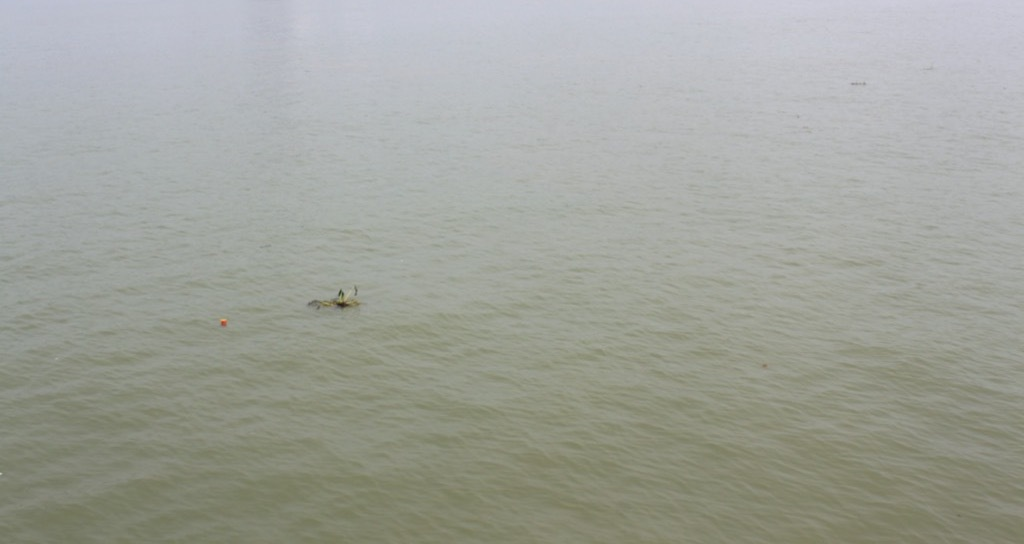organic: (846, 73, 874, 93), (755, 358, 773, 373), (791, 110, 806, 123)
plastic: (211, 311, 236, 334)
